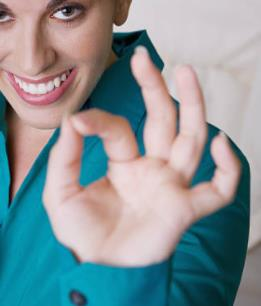left: (35, 41, 244, 265)
